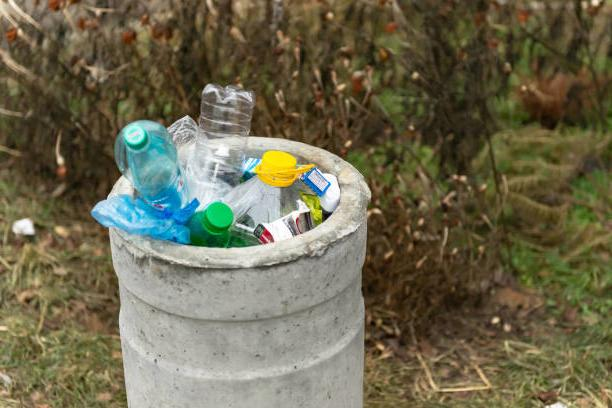trash: (108, 78, 346, 244)
trash_can_overflow: (92, 29, 400, 408)
